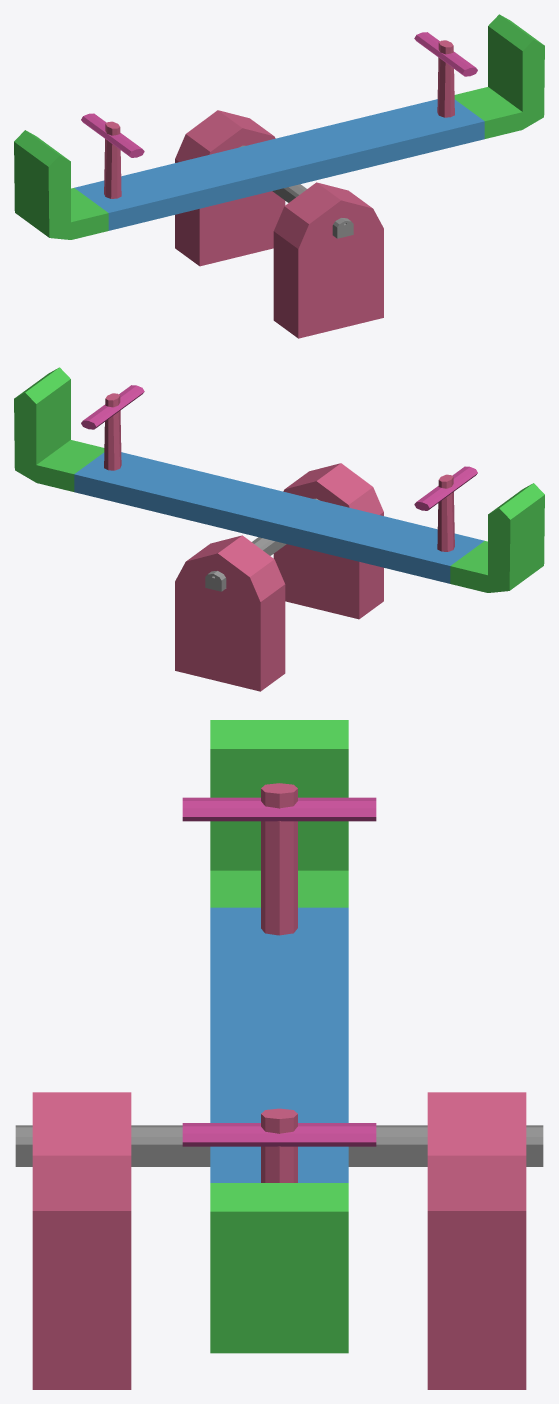
The model's file is SeeSaw.fbx.
3 views of the same model, one above another, from view 1: azimuth 30°, elevation 25°; view 2: azimuth 150°, elevation 25°; view 3: azimuth 270°, elevation 25° (orthographic). The views are drawn at different scales.
Parts seen in each view (by area): view 1: Cube.006, Cube.002; view 2: Cube.006, Cube.002; view 3: Cube.006, Cube.002.
Part boxes in pixels (x1=…): Cube.006: x1=14, y1=14, x2=544, y2=239; Cube.002: x1=175, y1=110, x2=383, y2=338; Cube.006: x1=14, y1=367, x2=544, y2=592; Cube.002: x1=175, y1=463, x2=383, y2=691; Cube.006: x1=182, y1=720, x2=376, y2=1353; Cube.002: x1=15, y1=1092, x2=543, y2=1389.
Size of the model in its own units: 1162 by 444 by 535.
